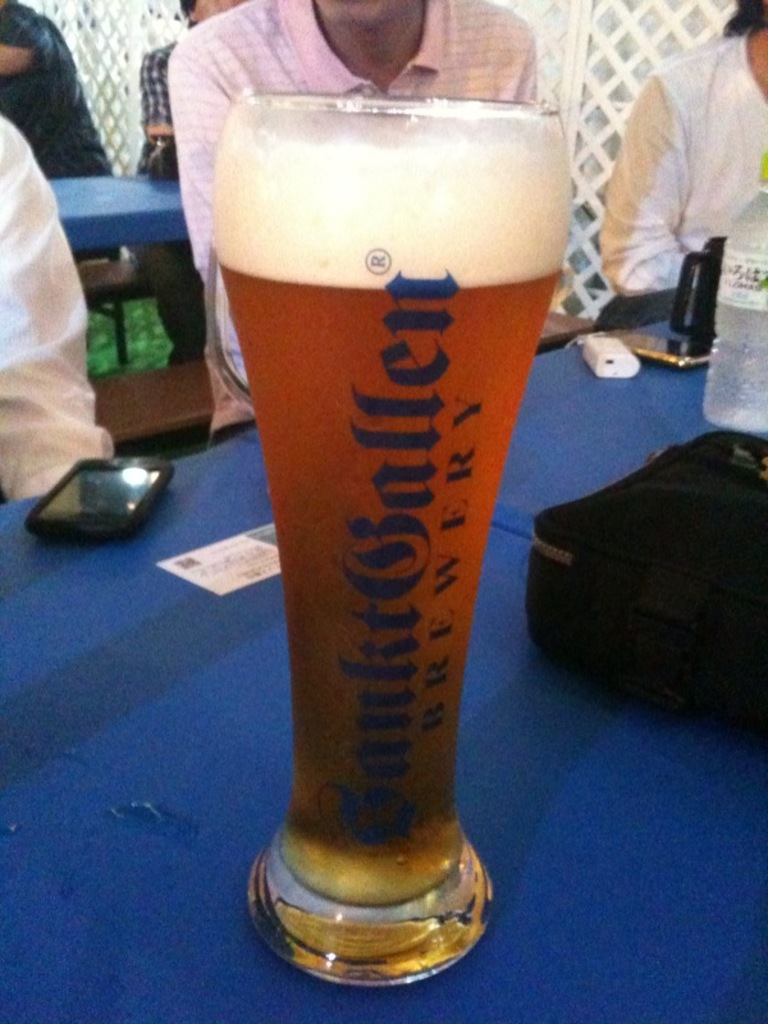Beer: (194, 99, 574, 995)
